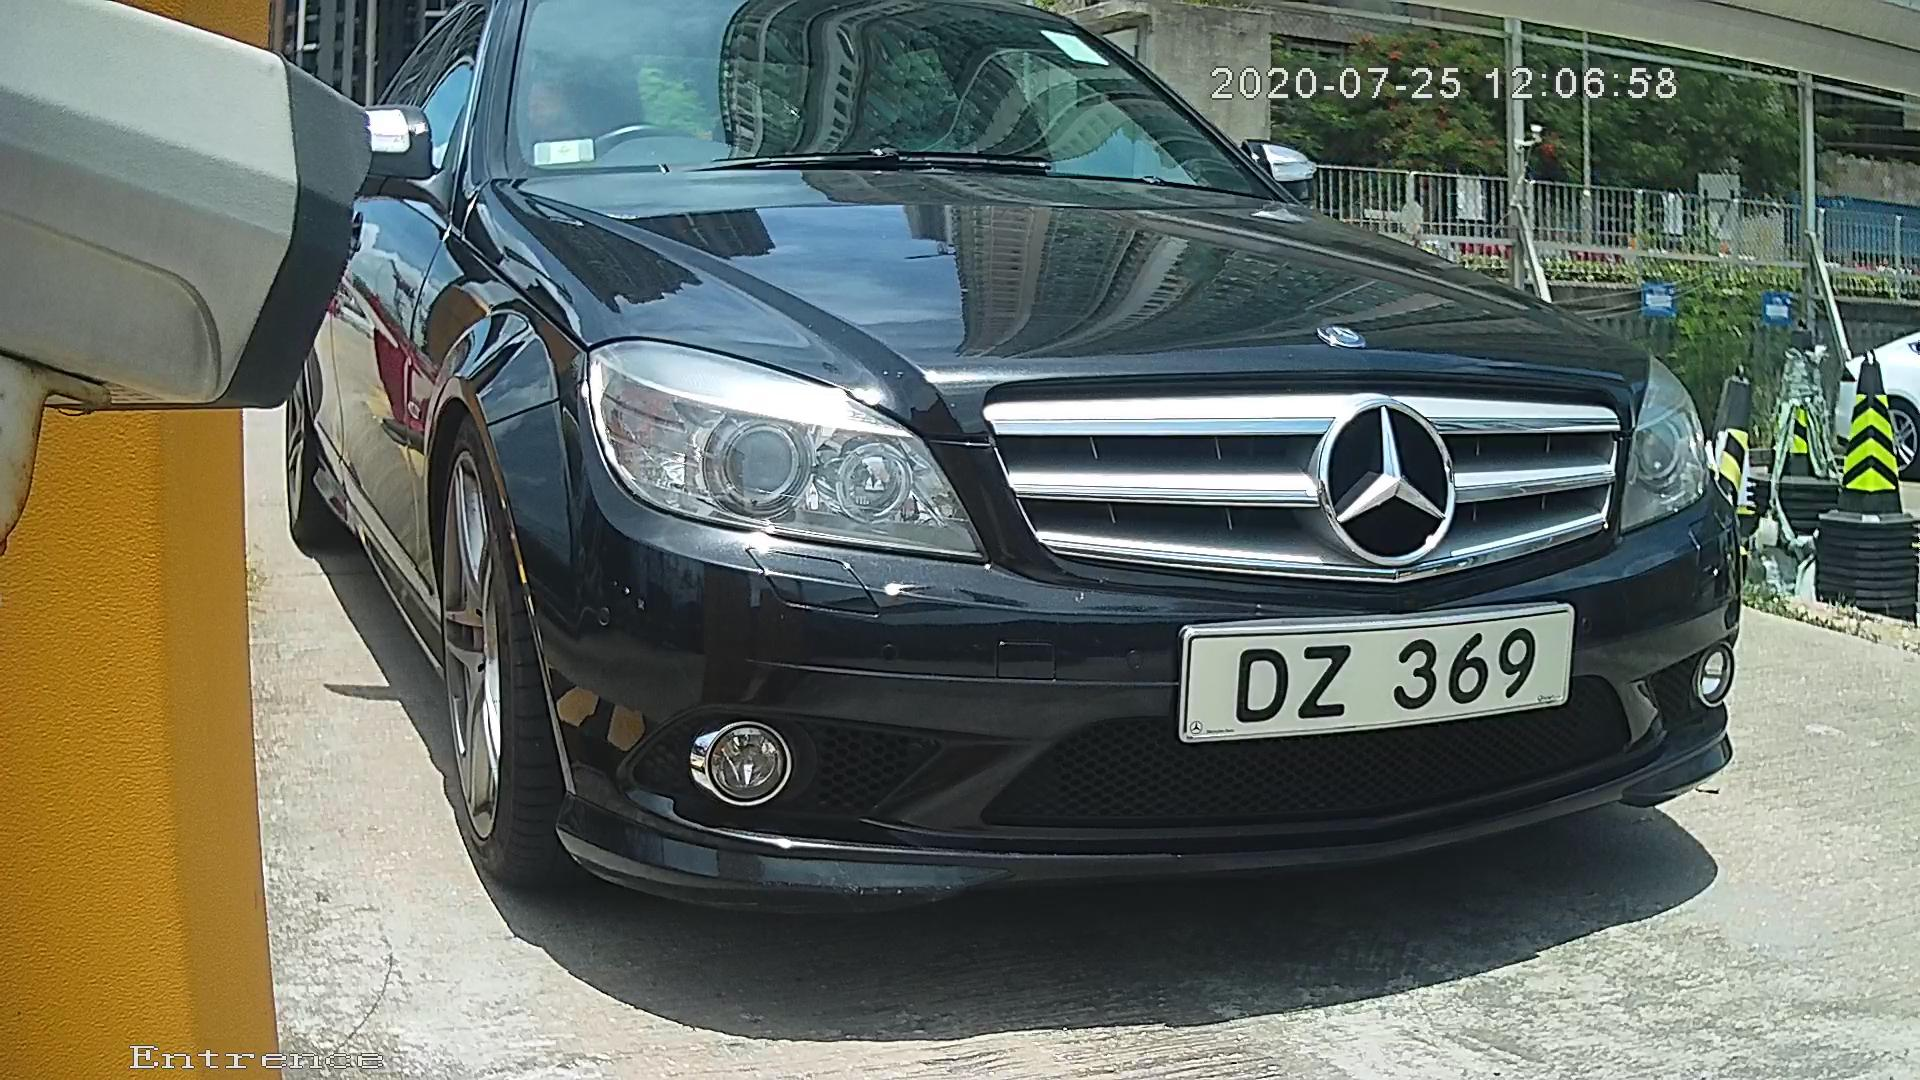License Plate: (1158, 598, 1595, 753)
